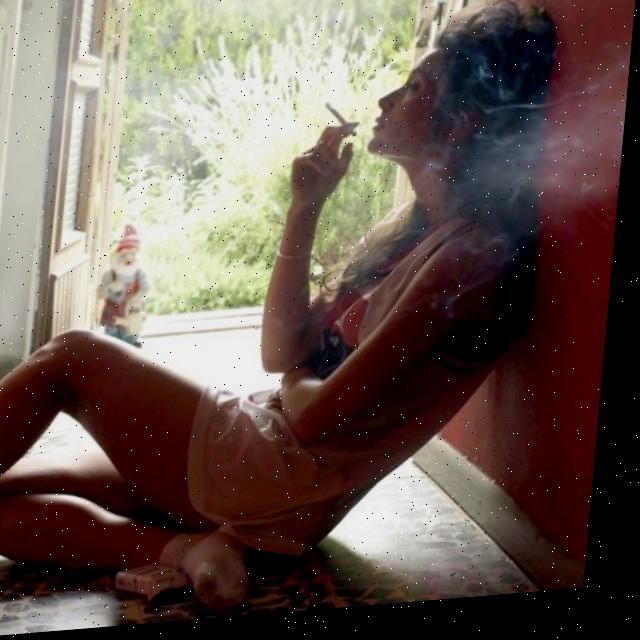cigarette: (325, 106, 362, 145)
